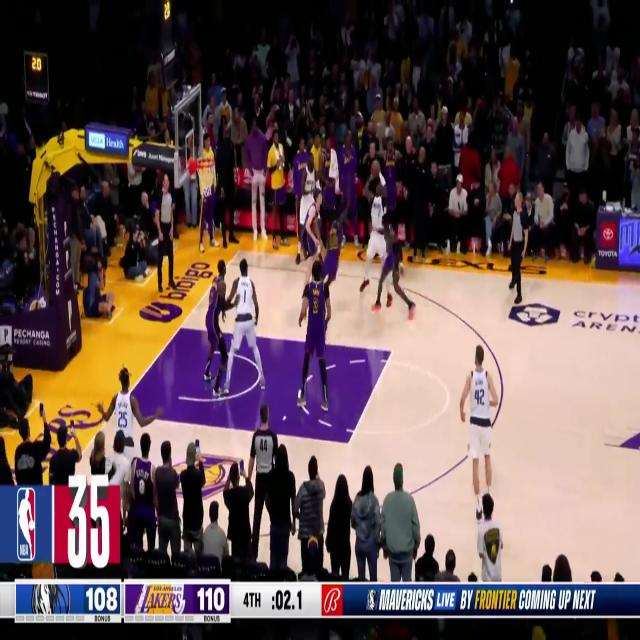Left Bottom Left Paint: (103, 397, 123, 432)
Left Bottom Right Paint: (338, 429, 358, 459)
Left Corner: (231, 236, 247, 265)
Left Tick: (524, 258, 542, 300)
Left Top Left Paint: (171, 314, 189, 341)
Left Top Right Paint: (384, 338, 401, 364)
